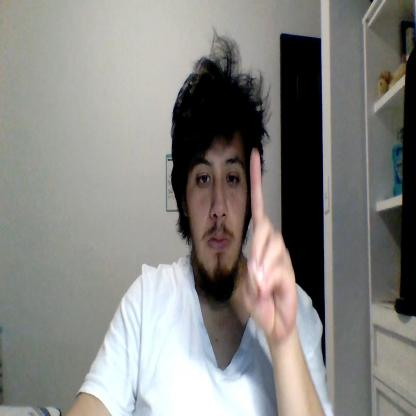D: (240, 148, 297, 338)
